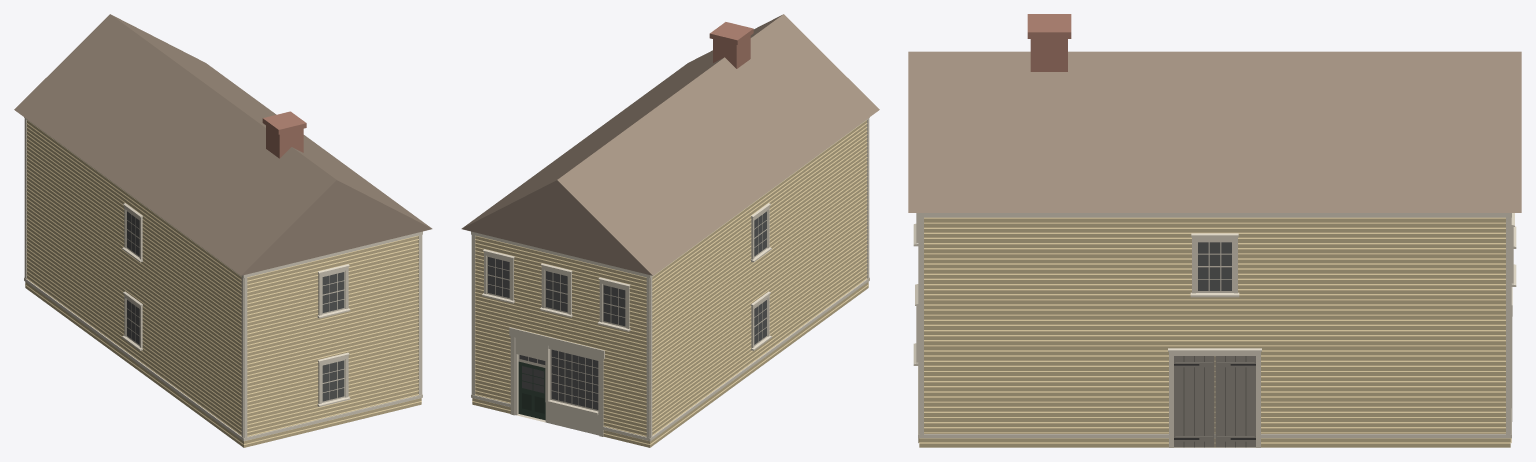
File: recon_1835_blk_south_water_dearborn_c3_01__inferred_1835.glb
3 views of the same model, side by side, from view 1: azimuth 30°, elevation 25°; view 2: azimuth 150°, elevation 25°; view 3: azimuth 270°, elevation 25° (orthographic). The views are drawn at different scales.
Parts seen in each view (by area): view 1: recon_1835_blk_south_water_dearborn_c3_01__inferred_1835; view 2: recon_1835_blk_south_water_dearborn_c3_01__inferred_1835; view 3: recon_1835_blk_south_water_dearborn_c3_01__inferred_1835.
Boxes of the visible parts, <box> form: recon_1835_blk_south_water_dearborn_c3_01__inferred_1835: <box>14,14,432,447</box>; recon_1835_blk_south_water_dearborn_c3_01__inferred_1835: <box>461,14,879,447</box>; recon_1835_blk_south_water_dearborn_c3_01__inferred_1835: <box>908,14,1521,447</box>.
Size of the model in its own units: 6.74 by 9.08 by 13.81.
